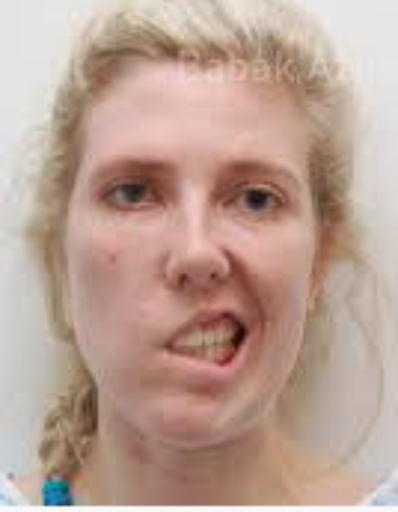left_eye: (226, 187, 288, 219)
left_lip_corner: (238, 321, 260, 346)
right_eye: (103, 179, 167, 210)
right_lip_corner: (147, 337, 176, 358)
